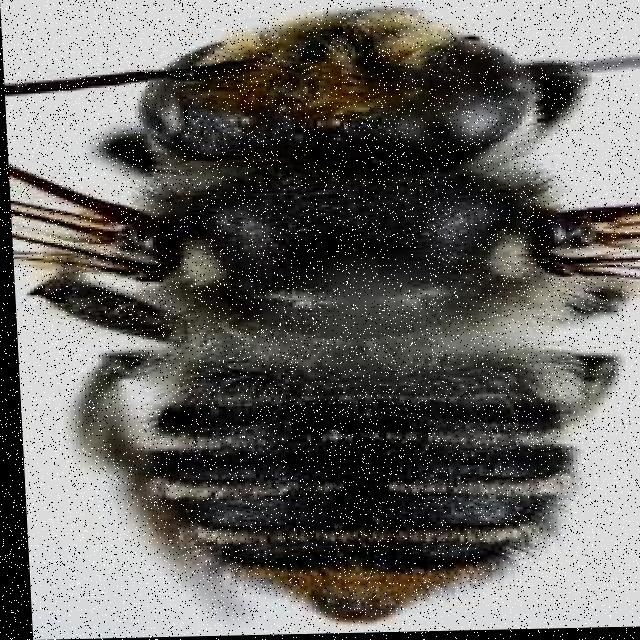Braunsapis: (9, 0, 640, 640)
